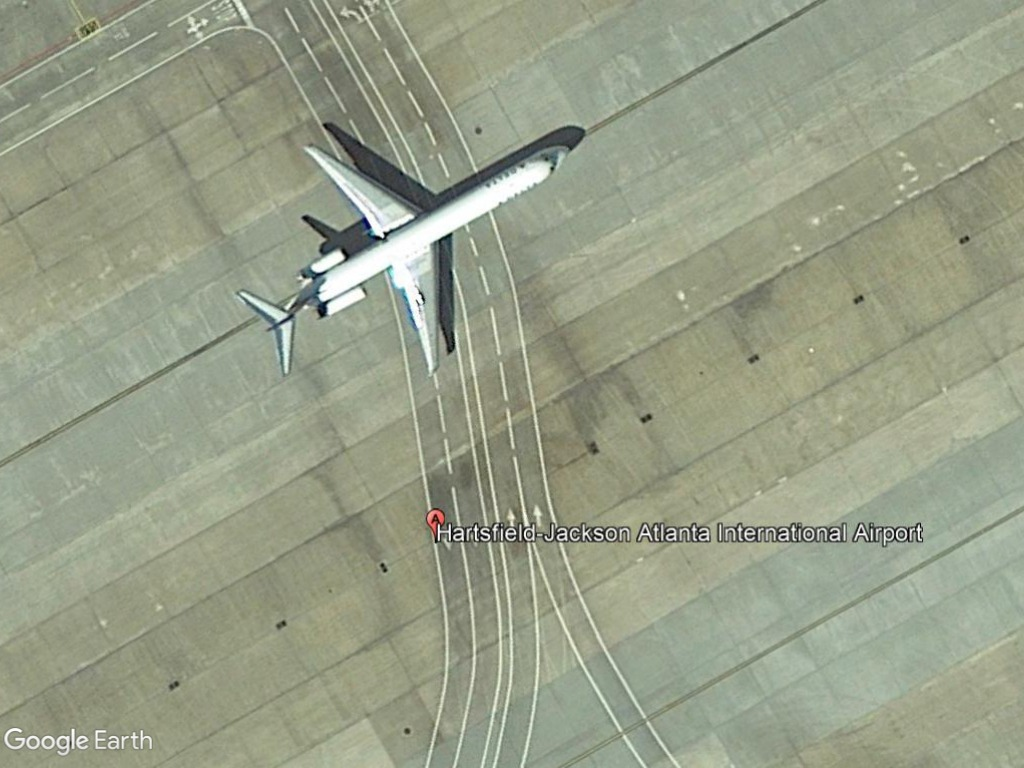chartered: (235, 130, 575, 390)
